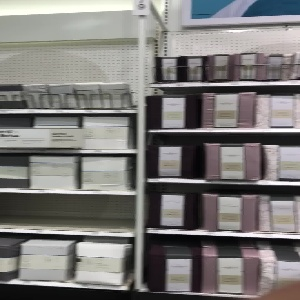void: (1, 194, 132, 234)
